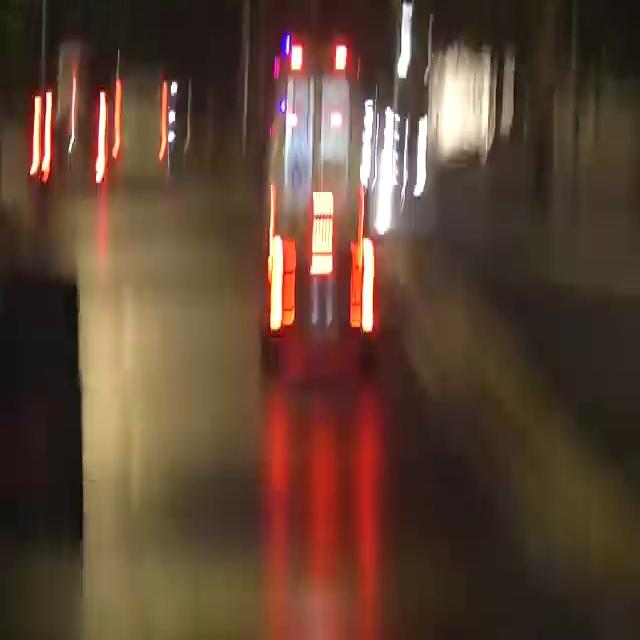ambulance: (264, 38, 386, 363)
